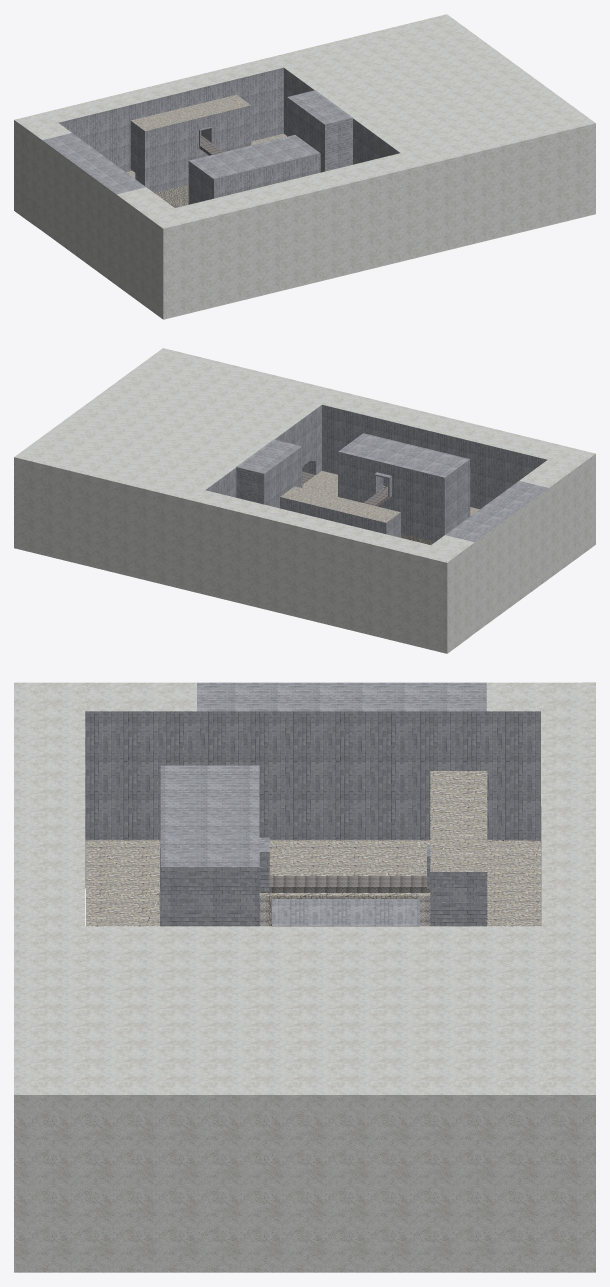
File: DefaultDMtextured.glb
3 views of the same model, one above another, from view 1: azimuth 30°, elevation 25°; view 2: azimuth 150°, elevation 25°; view 3: azimuth 270°, elevation 25° (orthographic). The views are drawn at different scales.
Visible parts, largest first — view 1: Cube.003; view 2: Cube.003; view 3: Cube.003.
Boxes of the visible parts, x1,y1,x2,y2 form: Cube.003: (14, 14, 595, 319); Cube.003: (14, 348, 595, 653); Cube.003: (14, 682, 595, 1272).
Bounding box in the file's own units: 294 × 67.63 × 175.
6 materials, 6 textured.
